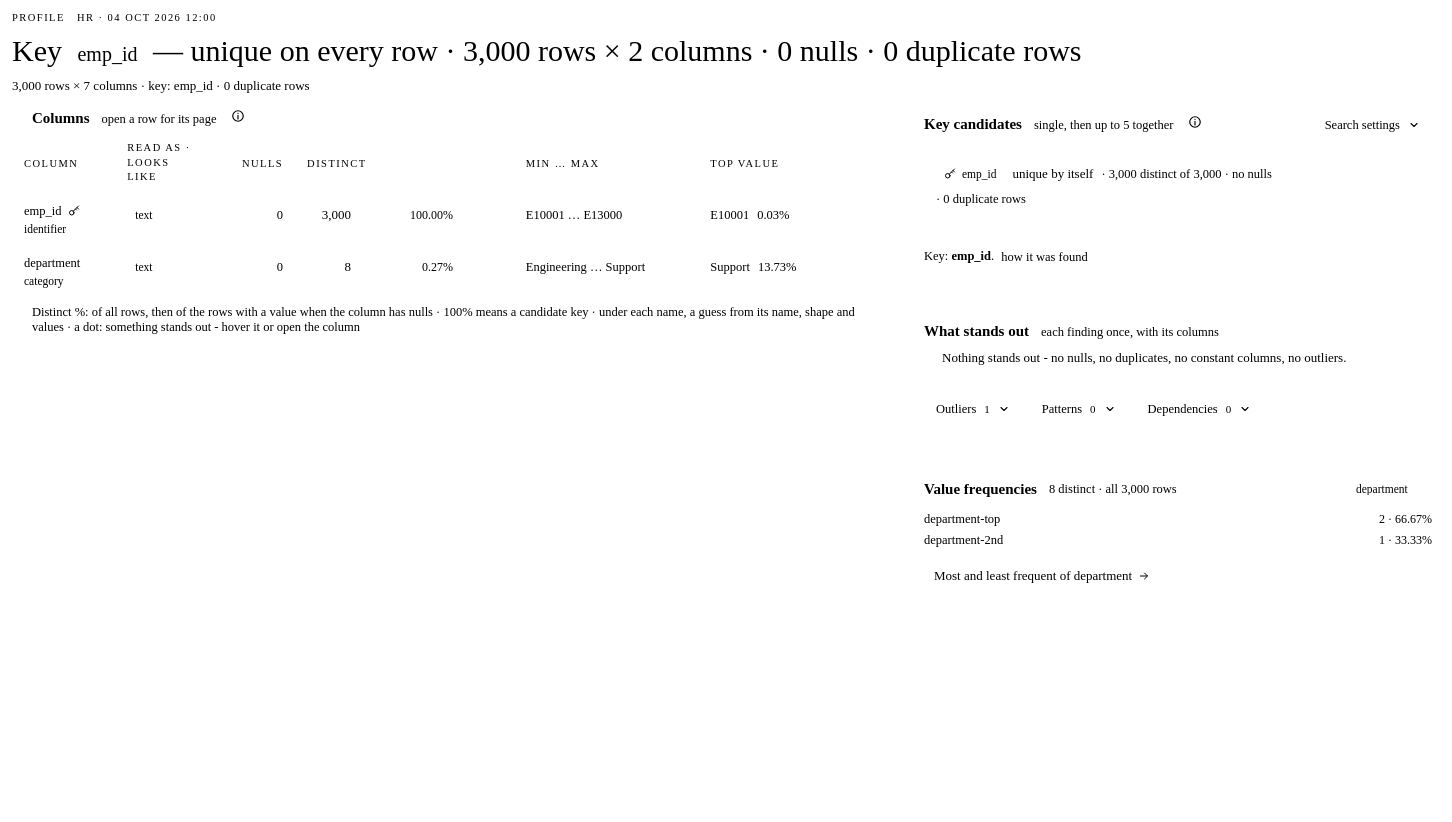
Value frequencies starts on a column with a handful of values; the picker asks for another by name
expect the text "department-top" is shown: met, box left=924, top=512, right=1000, bottom=526
expect the text "8 distinct · all 3,000 rows" is shown: met, box left=1049, top=482, right=1177, bottom=496
Select "a/b %" in the dropdown named "Value frequencies of": (1389, 489) left=1346, top=476, right=1432, bottom=502
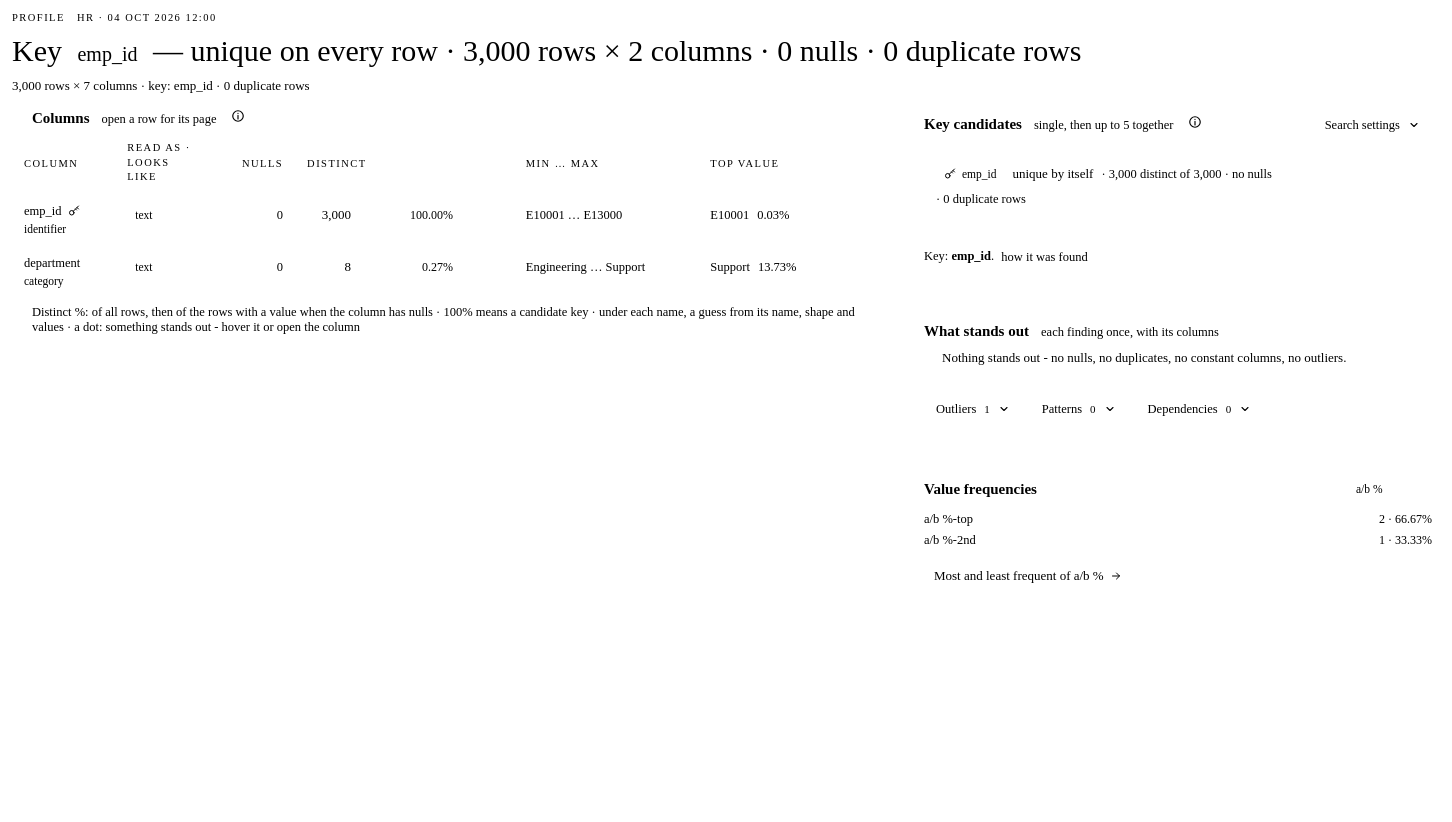
expect the text "a/b %-top" is shown: met, box left=924, top=512, right=973, bottom=526
expect the button "Most and least frequent of a/b %" is shown: met, box left=924, top=560, right=1132, bottom=592
